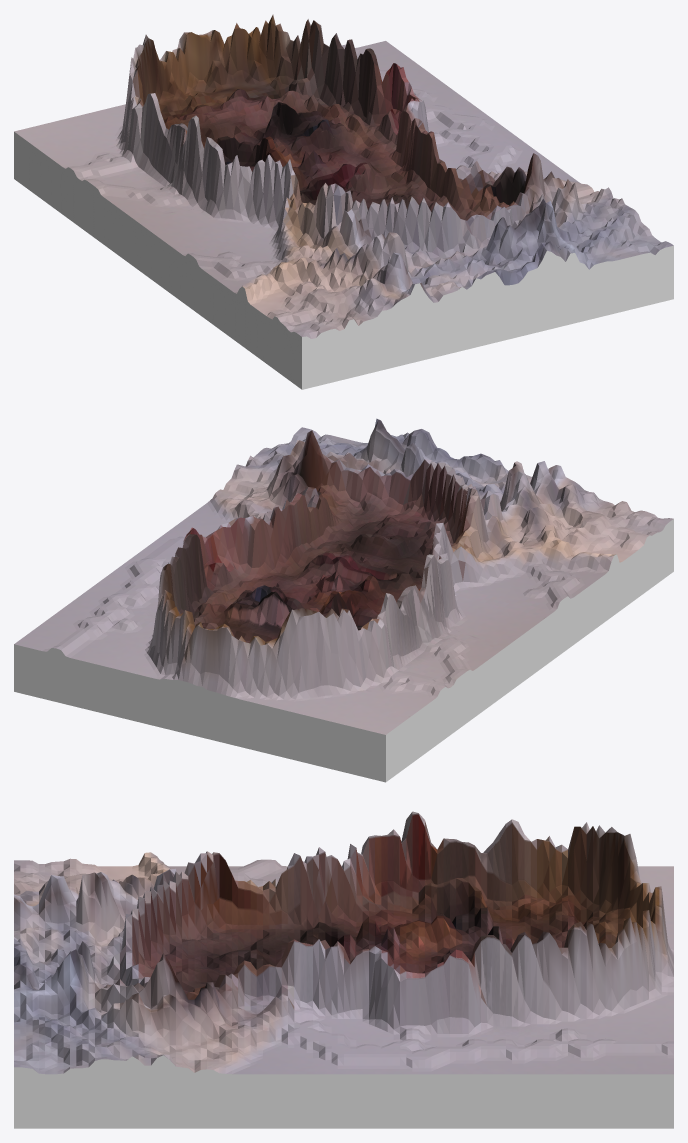
The model's file is map.glb.
The picture shows the model from 3 angles, top to bottom: view 1: azimuth 30°, elevation 25°; view 2: azimuth 150°, elevation 25°; view 3: azimuth 270°, elevation 25°; orthographic projection. The views are drawn at different scales.
Visible parts, largest first — view 1: node_id7, node_id5; view 2: node_id7, node_id5; view 3: node_id7, node_id5.
Boxes of the visible parts, box(x1,y1,x2,y2) form: node_id7: box(14, 14, 673, 338); node_id5: box(14, 132, 673, 389); node_id7: box(14, 418, 673, 734); node_id5: box(14, 519, 673, 782); node_id7: box(14, 811, 673, 1074); node_id5: box(14, 1055, 673, 1128).
Bounding box in the file's own units: 0.512 × 0.1727 × 0.6872.
2 materials, 2 textured.
